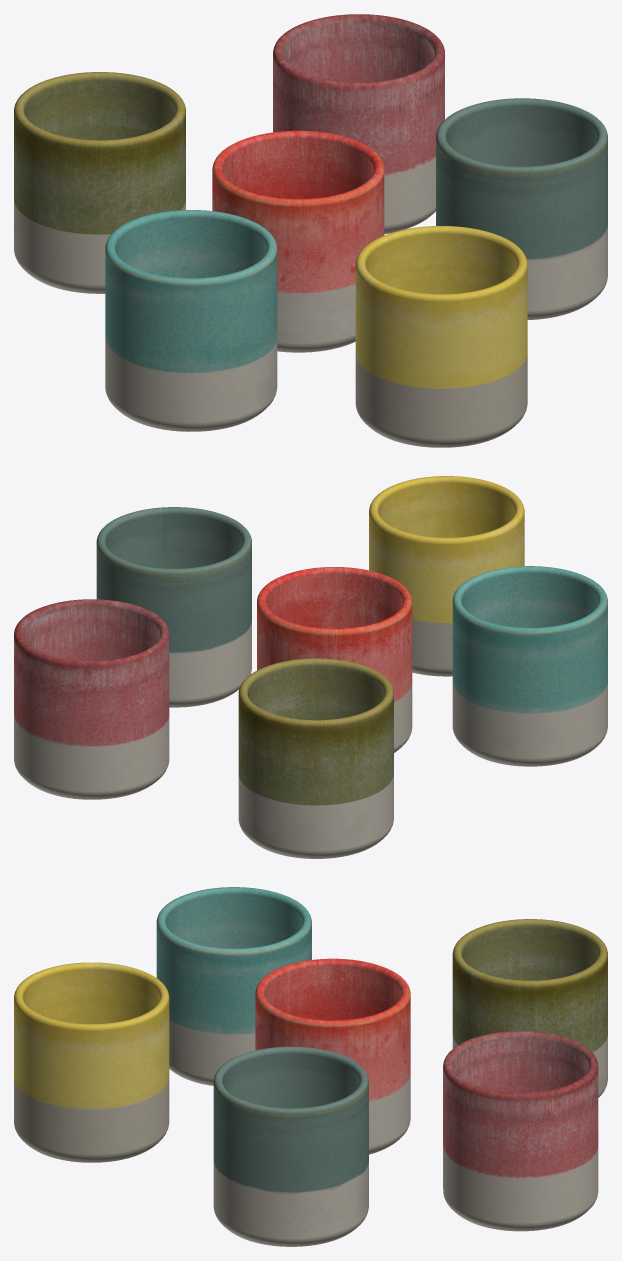
The model's file is planter_B07HSLK3GR.glb.
3 views of the same model, one above another, from view 1: azimuth 30°, elevation 25°; view 2: azimuth 150°, elevation 25°; view 3: azimuth 270°, elevation 25° (orthographic). The views are drawn at different scales.
Visible parts, largest first — view 1: RootNode; view 2: RootNode; view 3: RootNode.
Boxes of the visible parts, bbox=[...] form: RootNode: bbox=[14, 14, 607, 447]; RootNode: bbox=[14, 476, 607, 858]; RootNode: bbox=[14, 887, 607, 1246].
Size of the model in its own units: 0.2569 by 0.0755 by 0.2864.
1 material, 1 textured.
